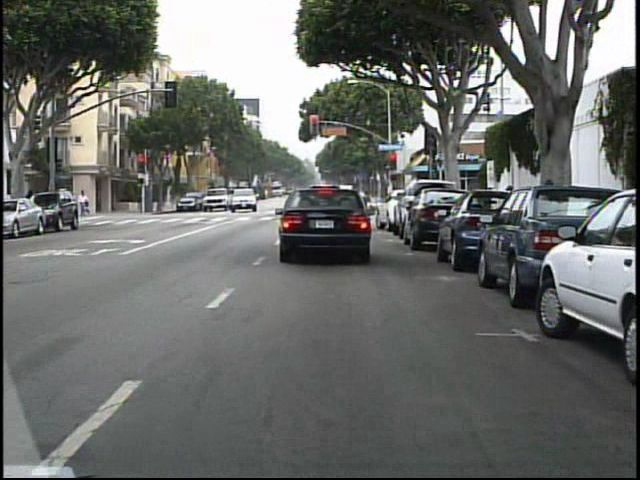person: (81, 187, 96, 219), (79, 188, 92, 218)
